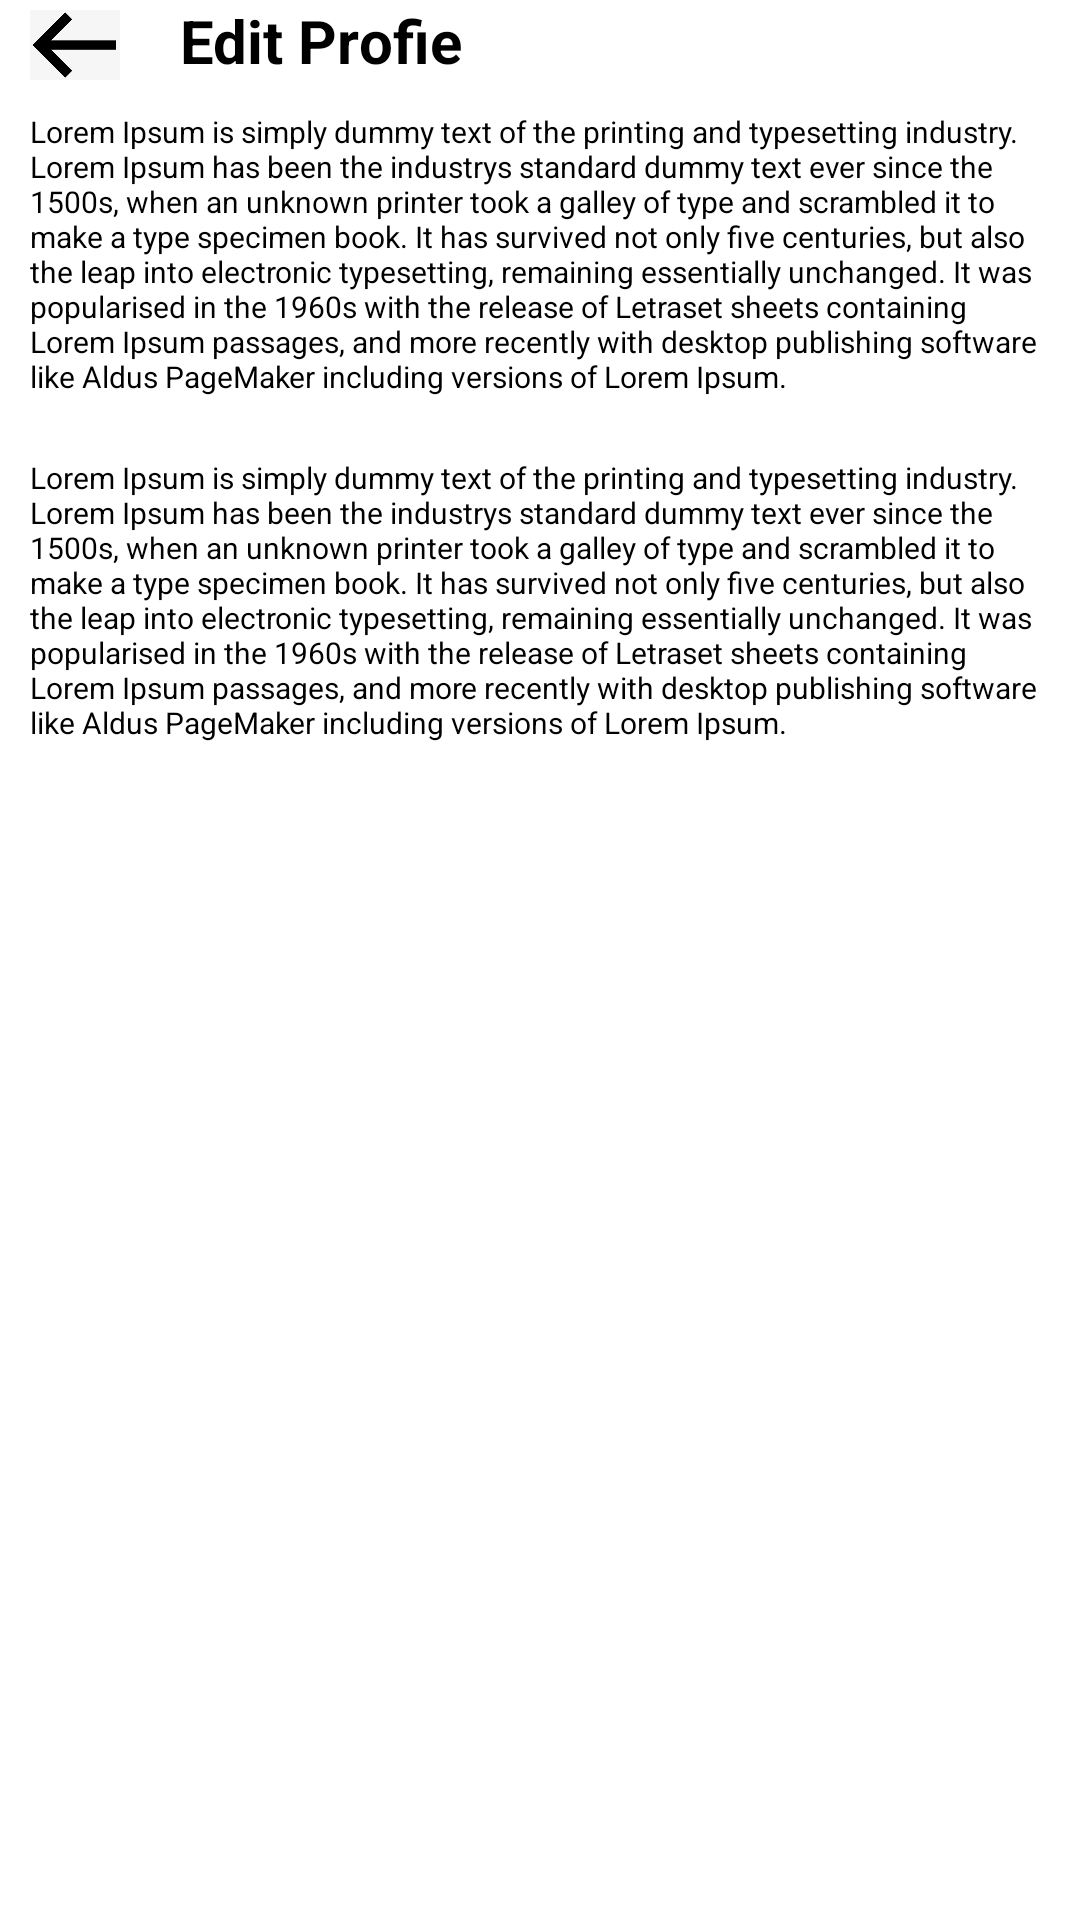

Locate icon controls on the screen. Image size 1080px×1920px, boxes as (x1, y1, x2, y2).
panah: (30, 10, 120, 80)
